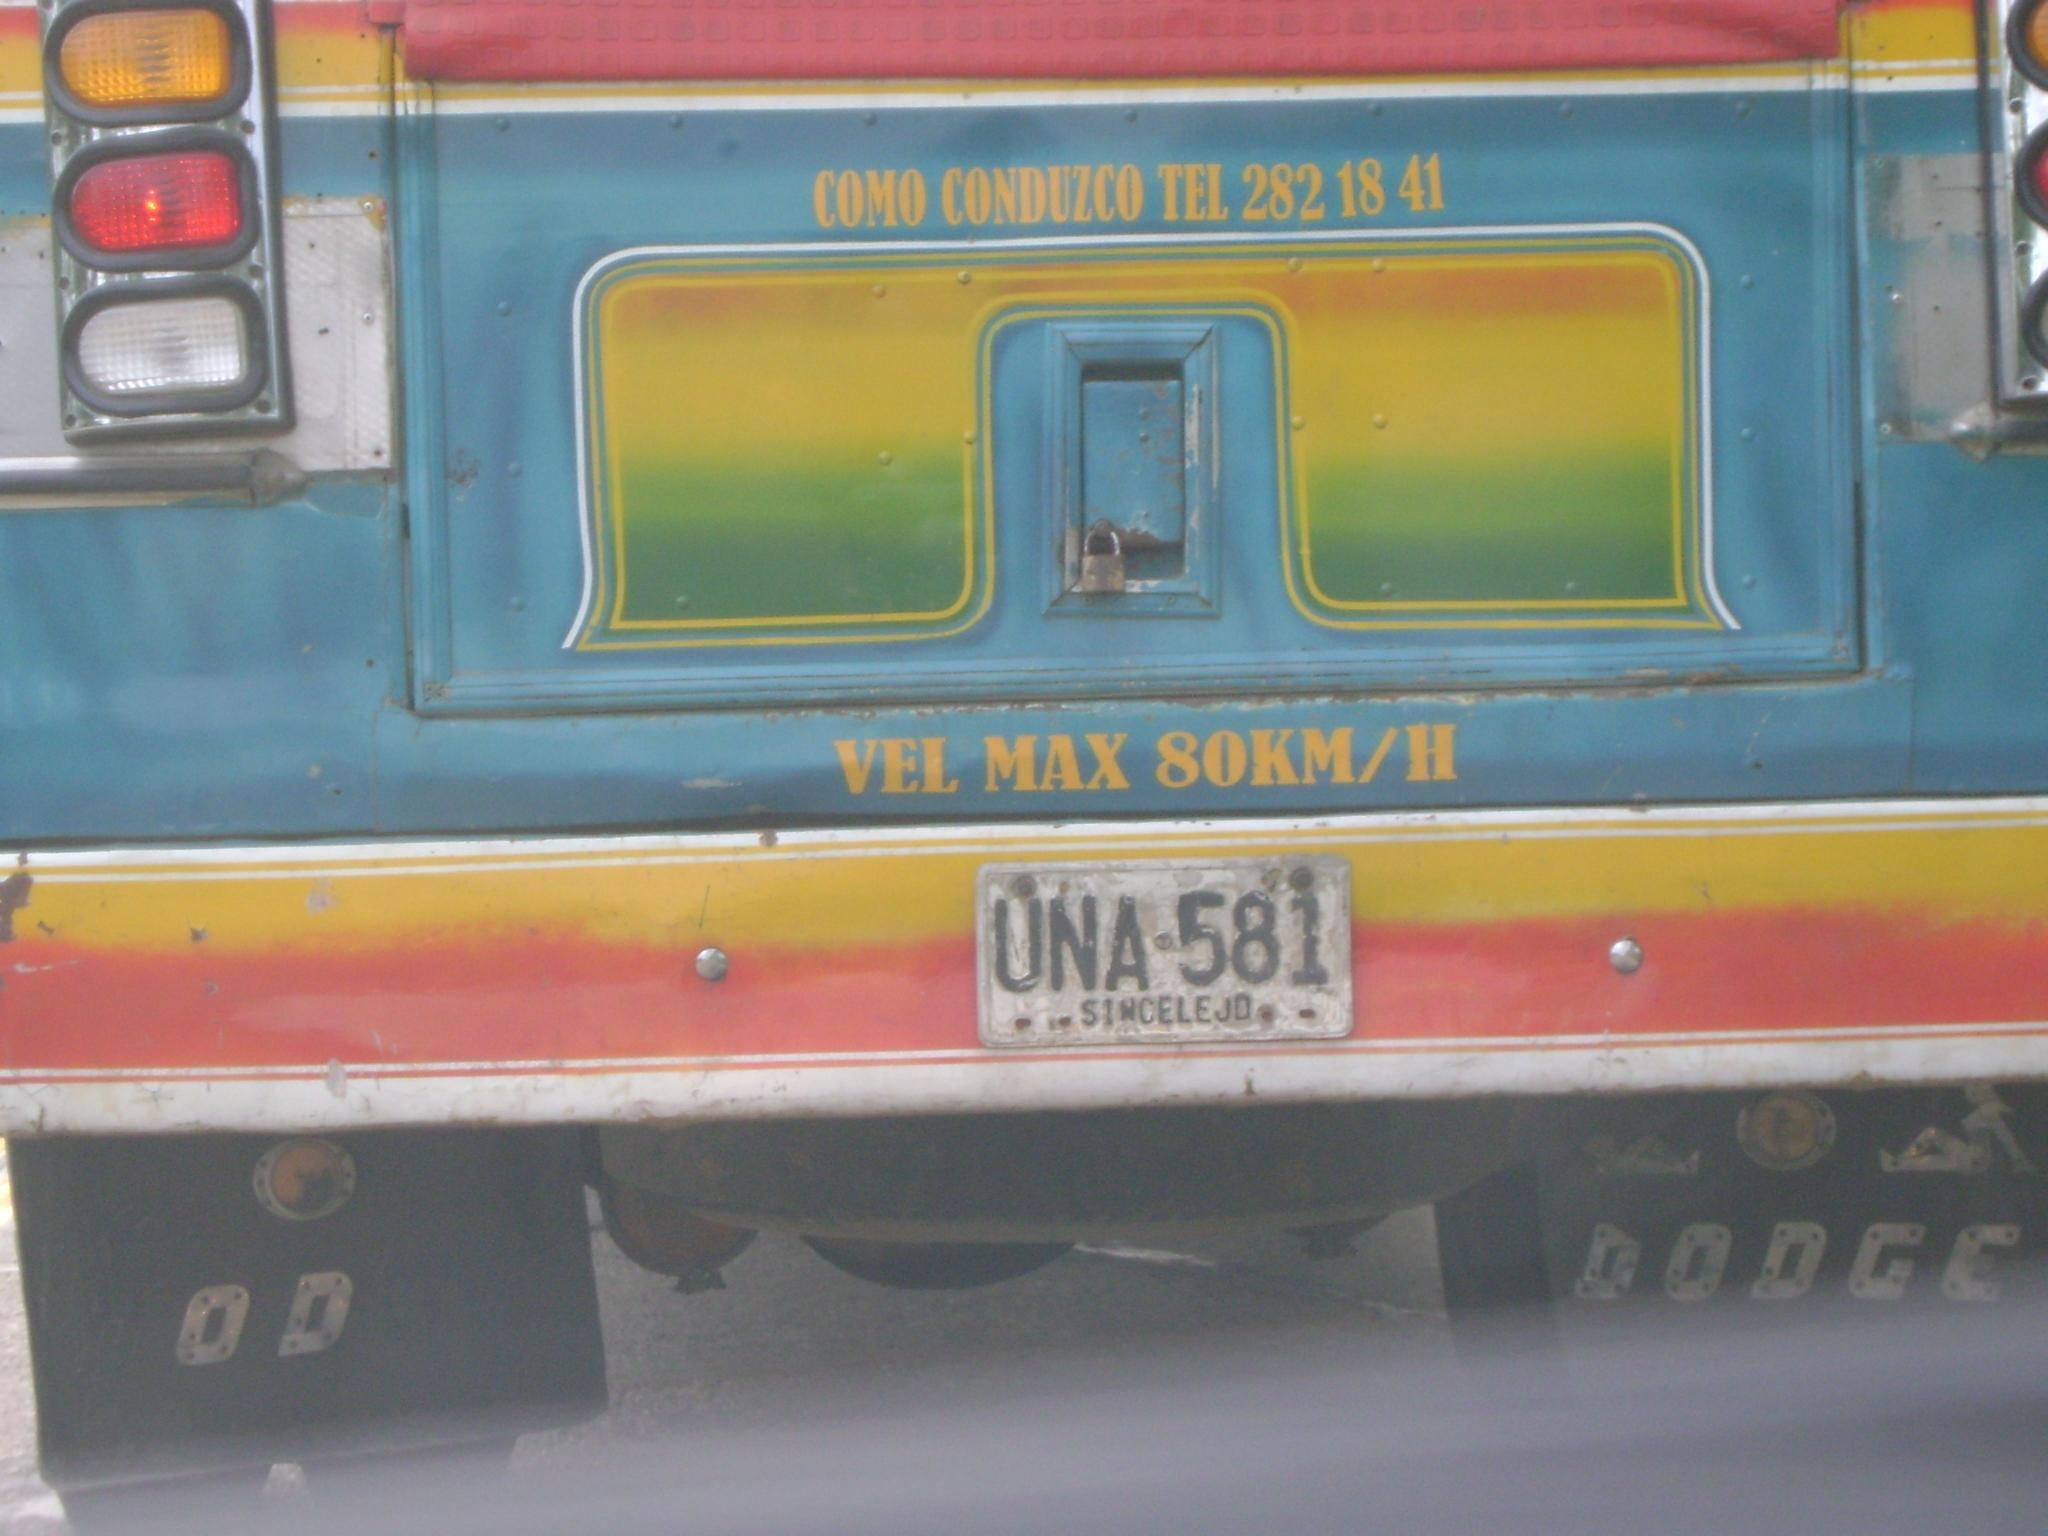placas: (954, 831, 1365, 1056)
